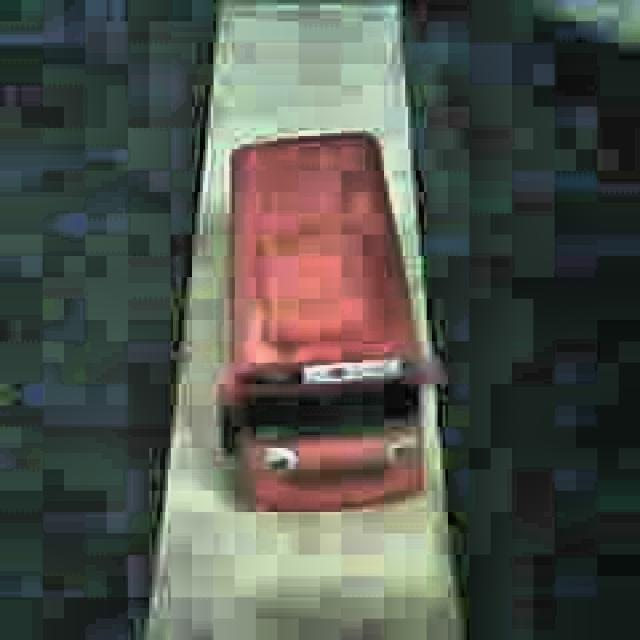bus: (218, 129, 444, 515)
